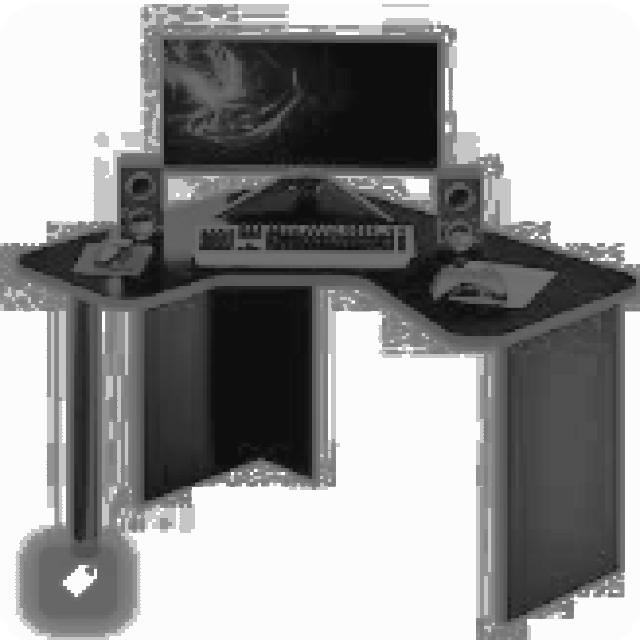table: (12, 182, 636, 622)
